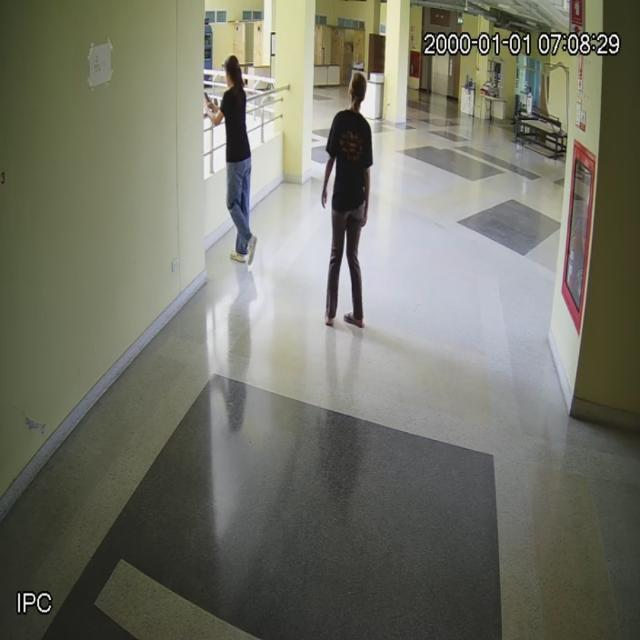normal: (322, 75, 373, 325), (218, 46, 261, 272)
